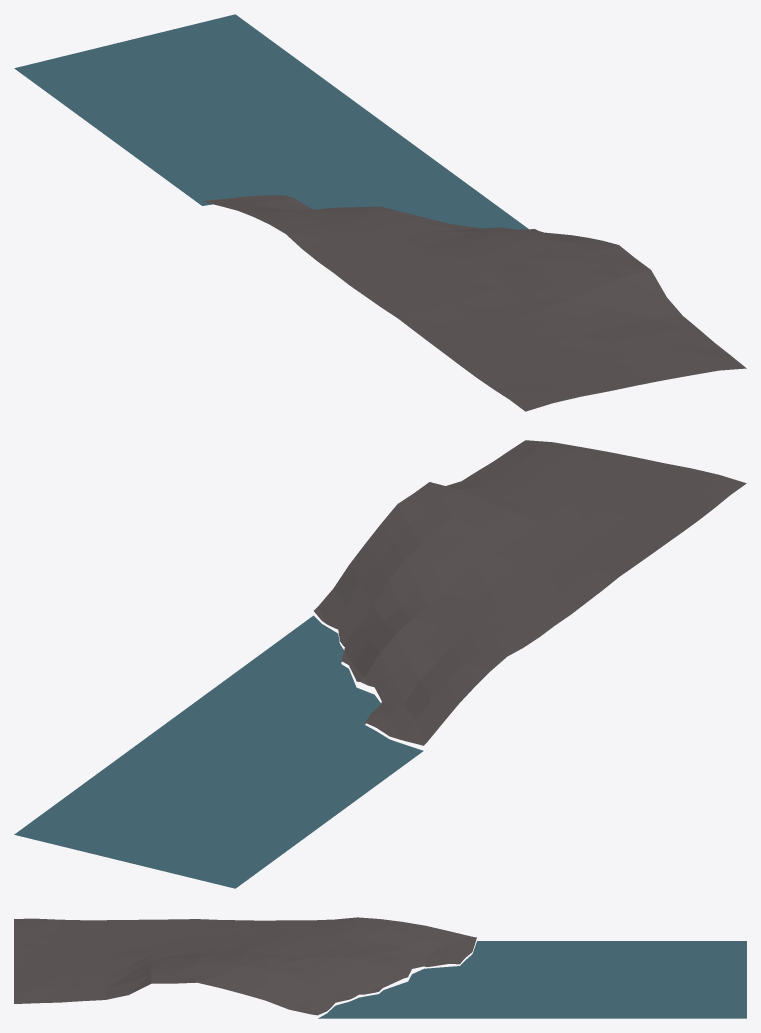
3 renders of one model, top to bottom at view 1: azimuth 30°, elevation 25°; view 2: azimuth 150°, elevation 25°; view 3: azimuth 270°, elevation 25°, orthographic. The views are drawn at different scales.
Parts seen in each view (by area): view 1: c_p06_p06; view 2: c_p06_p06; view 3: c_p06_p06.
Part boxes in pixels (bbox=[...]): c_p06_p06: bbox=[14, 14, 746, 411]; c_p06_p06: bbox=[14, 440, 746, 888]; c_p06_p06: bbox=[14, 917, 746, 1018].
Size of the model in its own units: 32 by 6.9 by 128.
